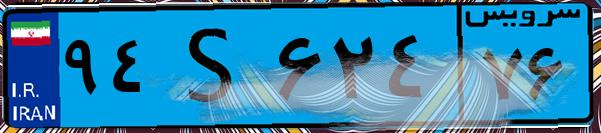2: (330, 28, 385, 110)
4: (385, 28, 445, 110), (110, 28, 158, 98)
6: (270, 28, 330, 110), (525, 38, 570, 115)
7: (475, 38, 525, 113)
9: (57, 26, 110, 100)
S: (158, 12, 270, 120)
